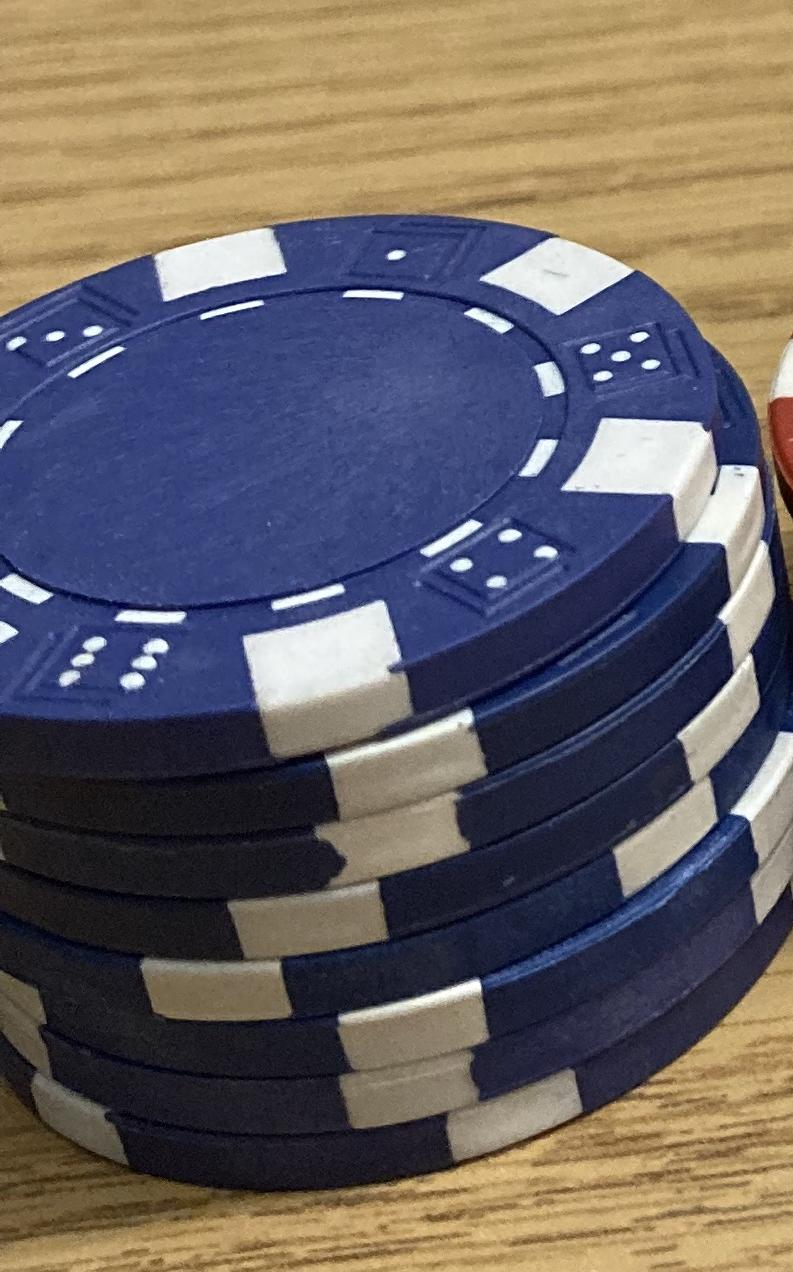Chip: (1, 1, 793, 1272)
